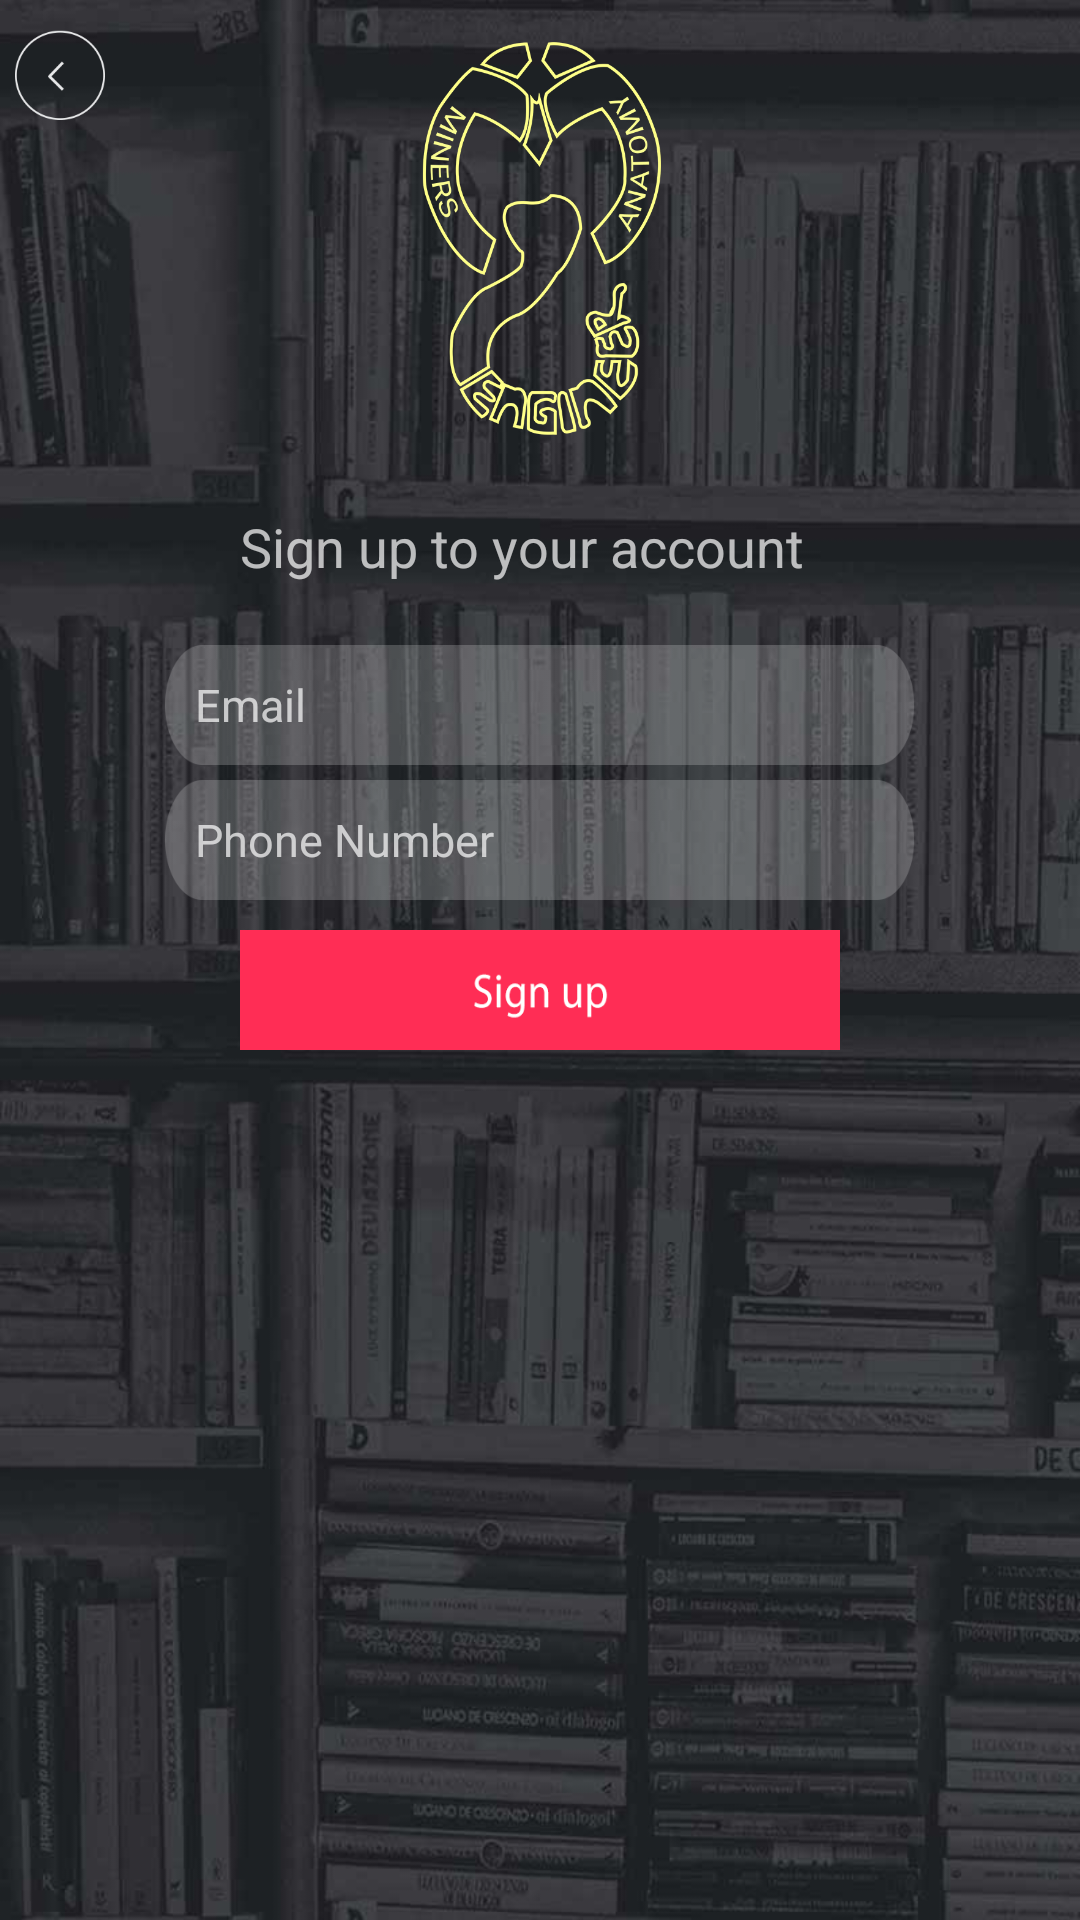

Icons on this 1080*1920 Android screen, each with its box as (x1, y1, x2, y2):
back: (15, 30, 105, 120)
